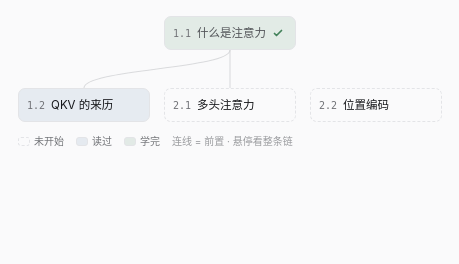
Test case: SectionTree › 悬停时把要点和前置说清楚（标题在方块里会被截断）
Check: the text "需先学" is not shown
Step 1. Hover over the text "QKV 的来历" → coordinates (82, 105), box [51,98,113,112]
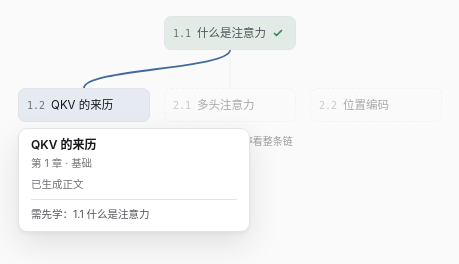
Check: the text "需先学：1.1 什么是注意力" is shown, box [31,199,237,223]
